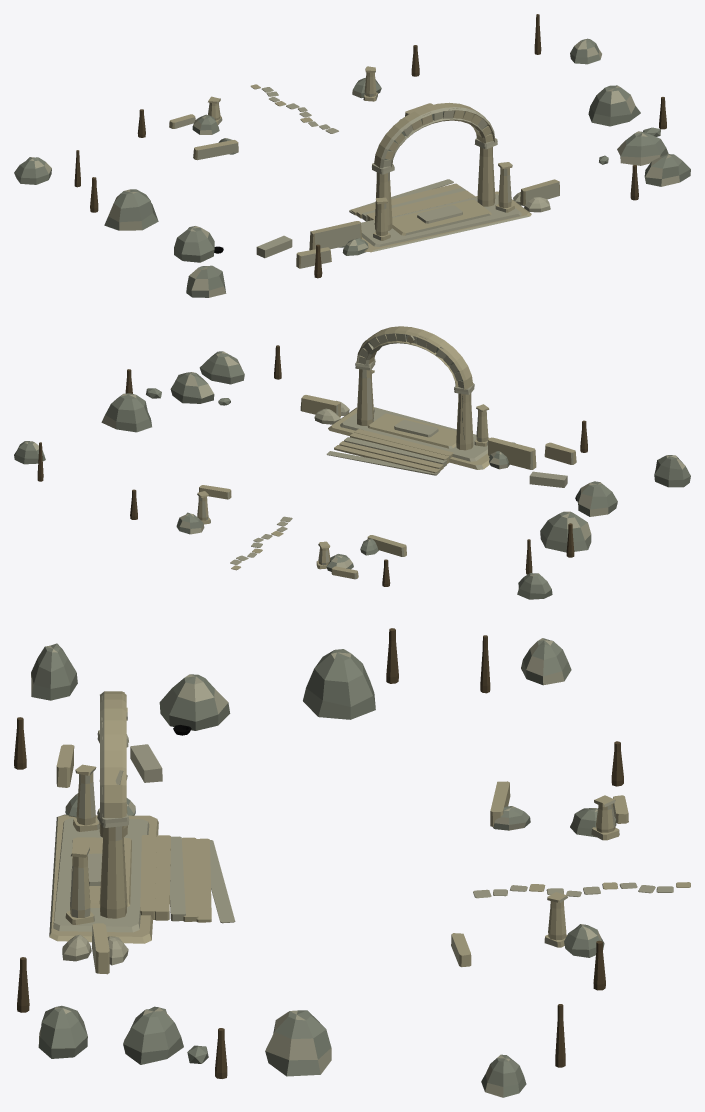
Rendered from boss_sanctuary_solid_props.fbx.
3 renders of one model, top to bottom at view 1: azimuth 30°, elevation 25°; view 2: azimuth 150°, elevation 25°; view 3: azimuth 270°, elevation 25°, orthographic. The views are drawn at different scales.
Visible parts, largest first — view 1: chunk_boss_sanctuary__PropsSolid; view 2: chunk_boss_sanctuary__PropsSolid; view 3: chunk_boss_sanctuary__PropsSolid.
Boxes of the visible parts, <box> form: chunk_boss_sanctuary__PropsSolid: <box>14,14,690,297</box>; chunk_boss_sanctuary__PropsSolid: <box>14,326,690,599</box>; chunk_boss_sanctuary__PropsSolid: <box>14,628,690,1097</box>.
Bounding box in the file's own units: 343 × 66.7 × 226.
